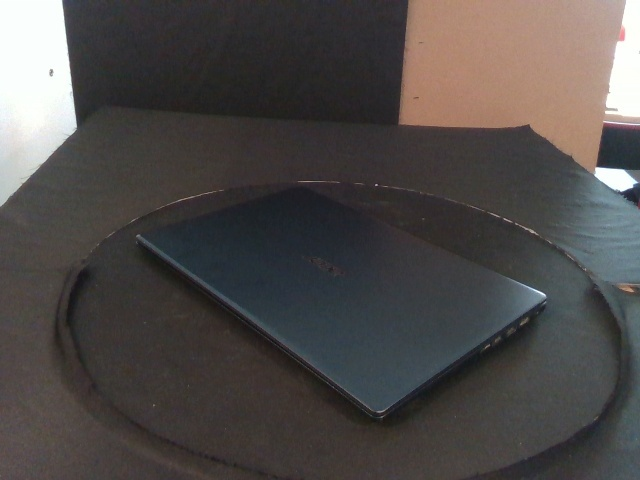laptop: (134, 183, 546, 421)
